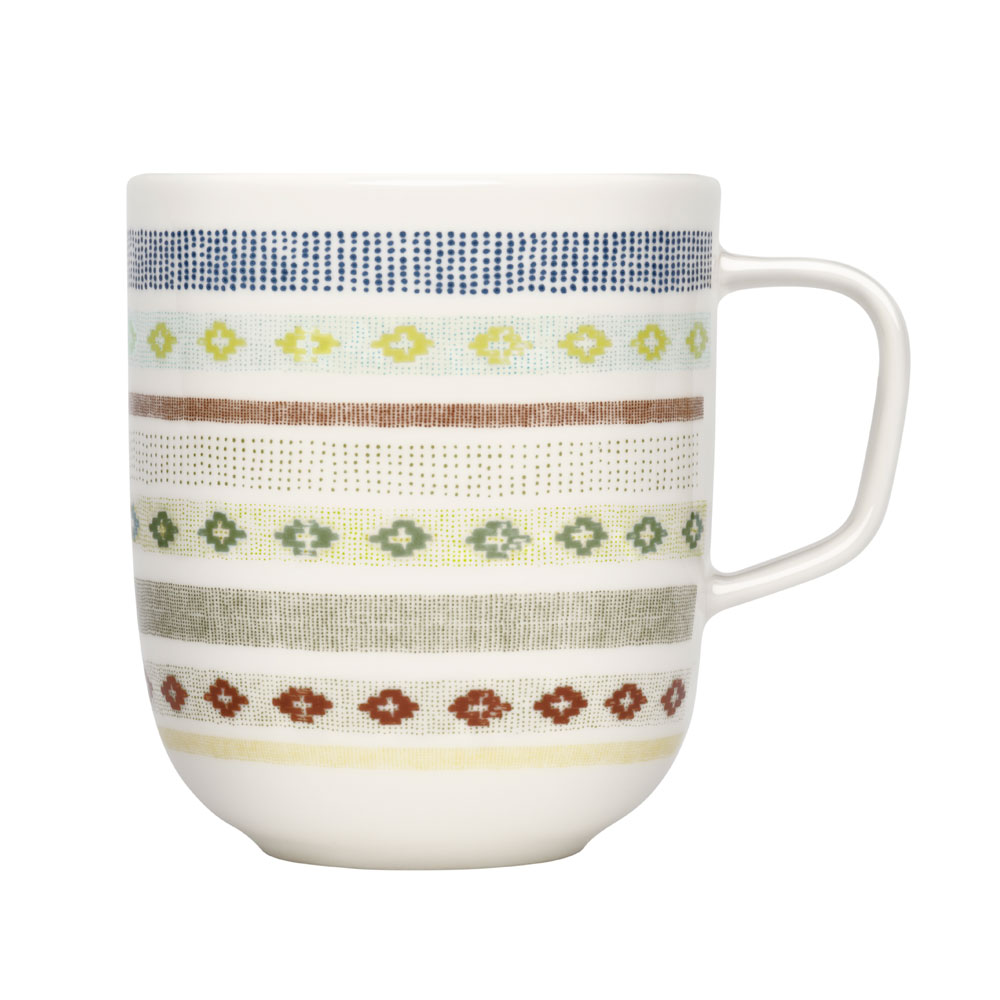cup: (123, 167, 914, 870)
